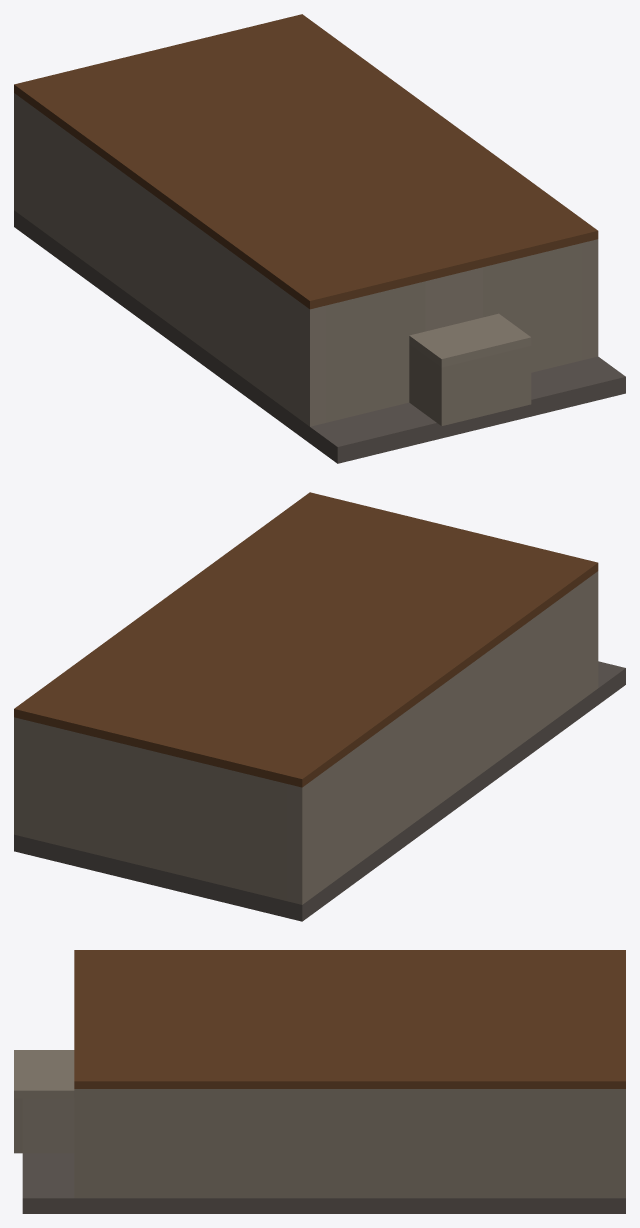
The model's file is keep.glb.
3 renders of one model, top to bottom at view 1: azimuth 30°, elevation 25°; view 2: azimuth 150°, elevation 25°; view 3: azimuth 270°, elevation 25°, orthographic. The views are drawn at different scales.
Visible parts, largest first — view 1: Ceiling, Walls, Floor; view 2: Ceiling, Walls, Floor; view 3: Ceiling, Walls, Floor.
Part boxes in pixels (box(x1,y1,x2,y2)): Ceiling: box(14, 14, 598, 309); Walls: box(14, 93, 598, 426); Floor: box(14, 210, 625, 463); Ceiling: box(14, 492, 598, 787); Walls: box(14, 571, 598, 904); Floor: box(14, 661, 625, 921); Ceiling: box(74, 950, 625, 1088); Walls: box(14, 1050, 625, 1198); Floor: box(22, 1153, 625, 1213).
Size of the model in its own units: 18 by 8.5 by 35.5.
